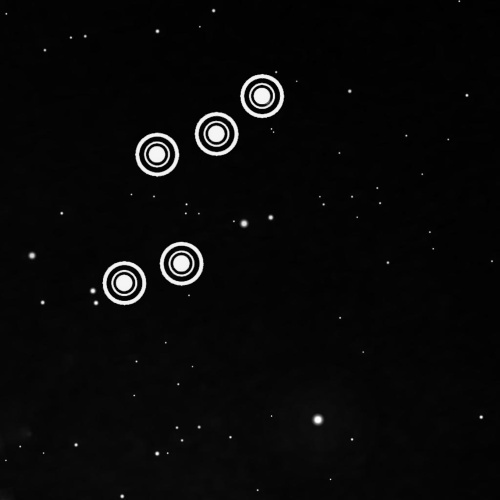lyra: (93, 59, 290, 315)
